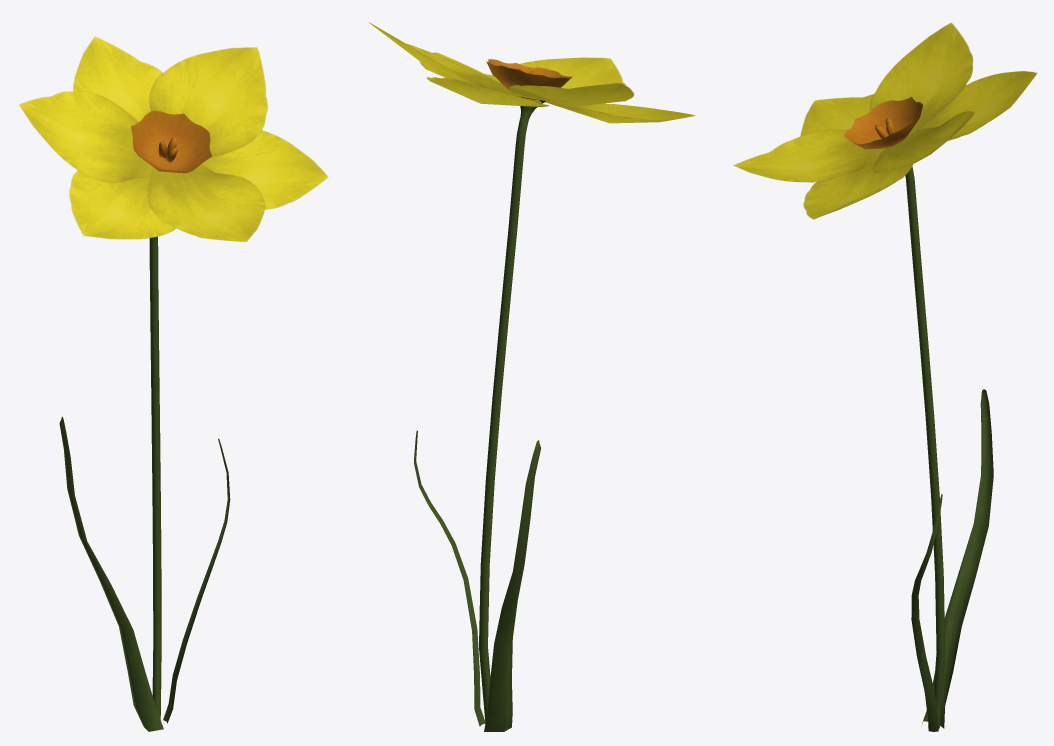
The model's file is Flower3.glb.
The picture shows the model from 3 angles, left to right: view 1: azimuth 30°, elevation 25°; view 2: azimuth 150°, elevation 25°; view 3: azimuth 270°, elevation 25°; orthographic projection. The views are drawn at different scales.
Parts seen in each view (by area): view 1: Blossom, Stem; view 2: Stem, Blossom; view 3: Blossom, Stem.
Part boxes in pixels (box(x1,y1,x2,y2)): Blossom: box(19, 36, 327, 241); Stem: box(59, 137, 230, 731); Stem: box(414, 68, 545, 731); Blossom: box(368, 22, 695, 123); Blossom: box(733, 22, 1037, 219); Stem: box(875, 117, 993, 731).
Bounding box in the file's own units: 7.95 × 16.71 × 7.07.
Materials: 2 (2 with a texture image).
